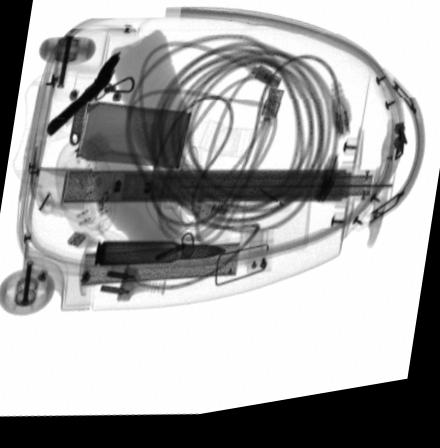Bullet: (93, 243, 226, 268)
Gun: (45, 54, 120, 136)
